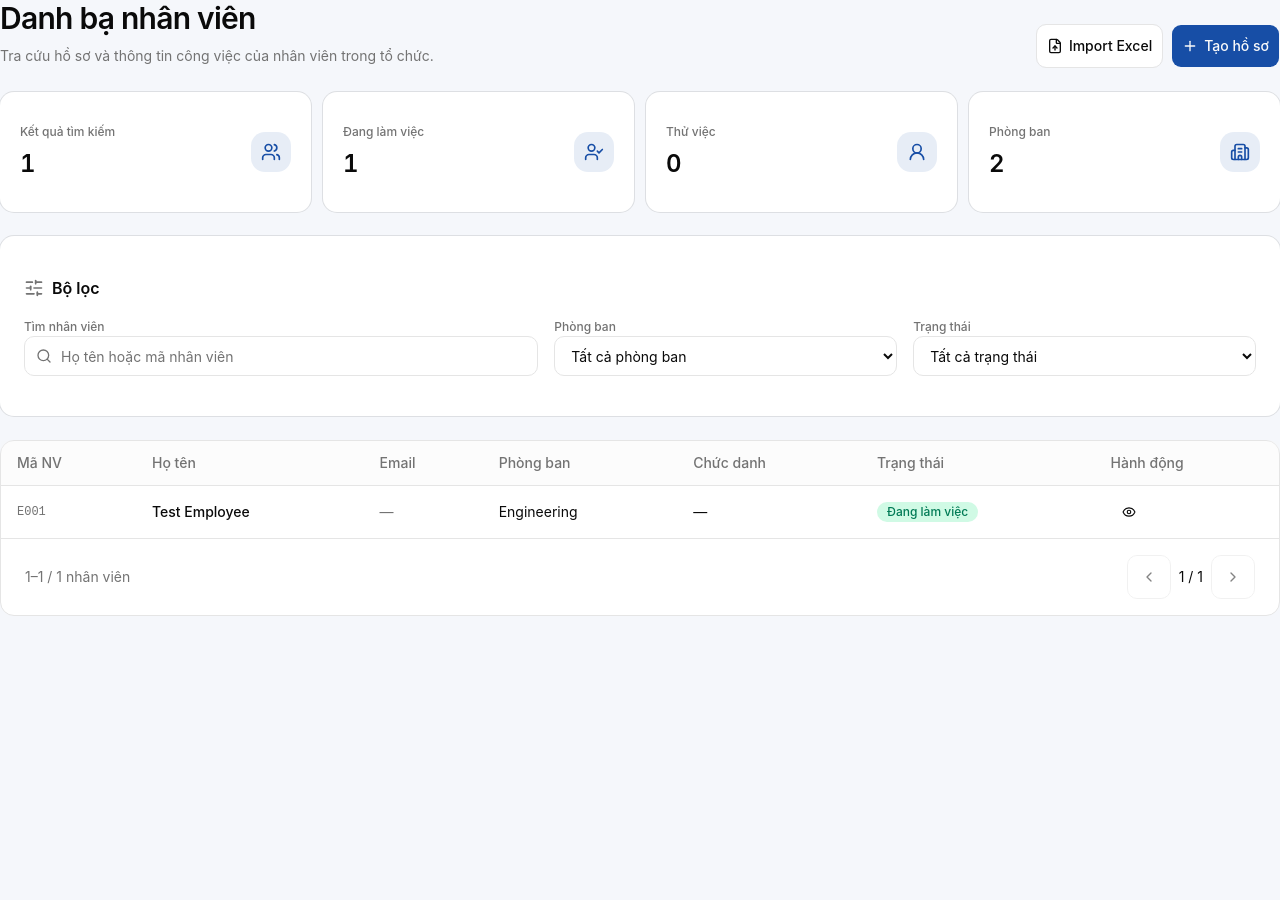
it: create employee keeps field validation inline and shows a warning toast
Step 1. Click the button "Tạo hồ sơ" → point(1226, 46), box [1171,24,1279,68]
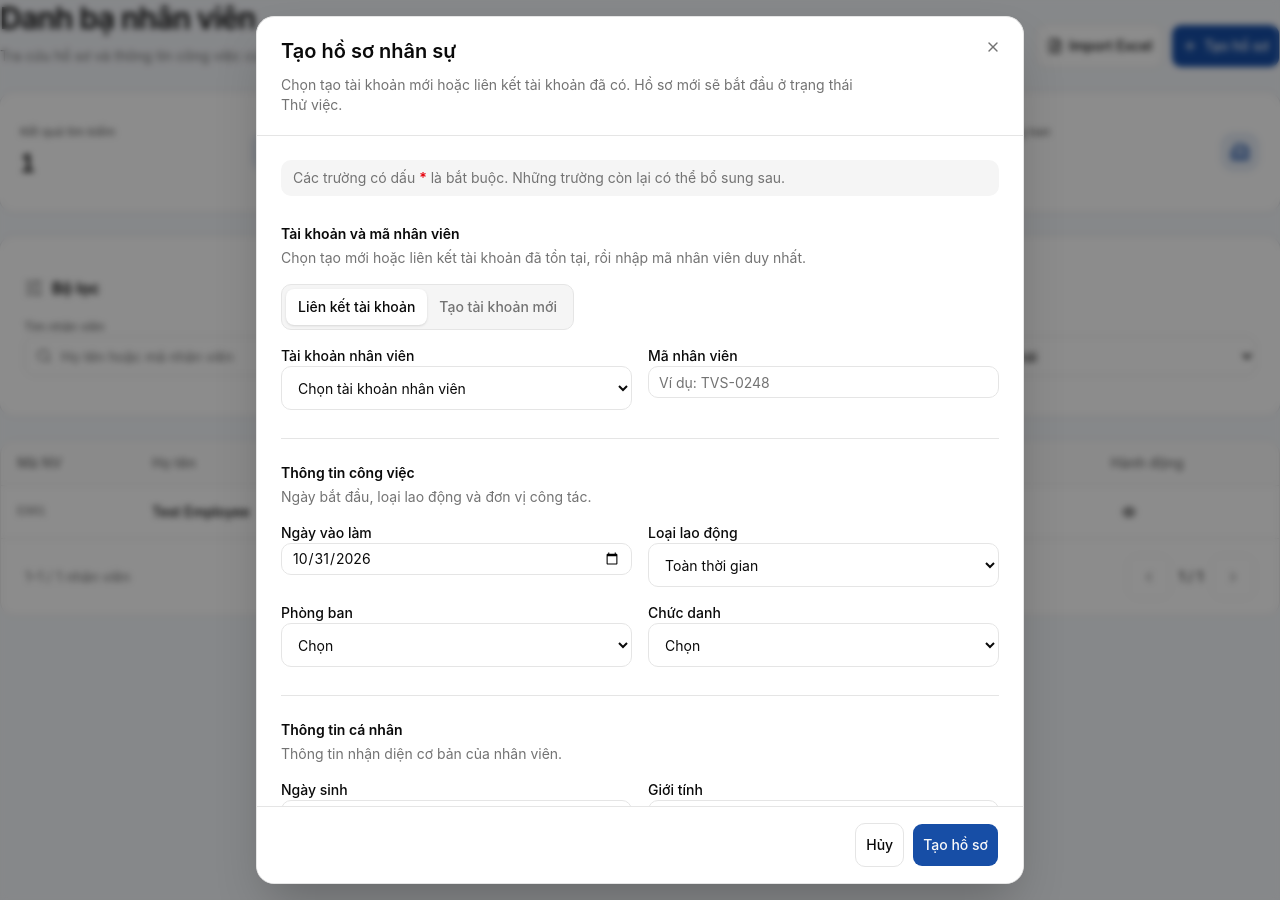
Expected: the text "Vui lòng chọn tài khoản nhân viên." is not shown
Step 2. Click the submit button → point(956, 845), box [912,823,999,867]
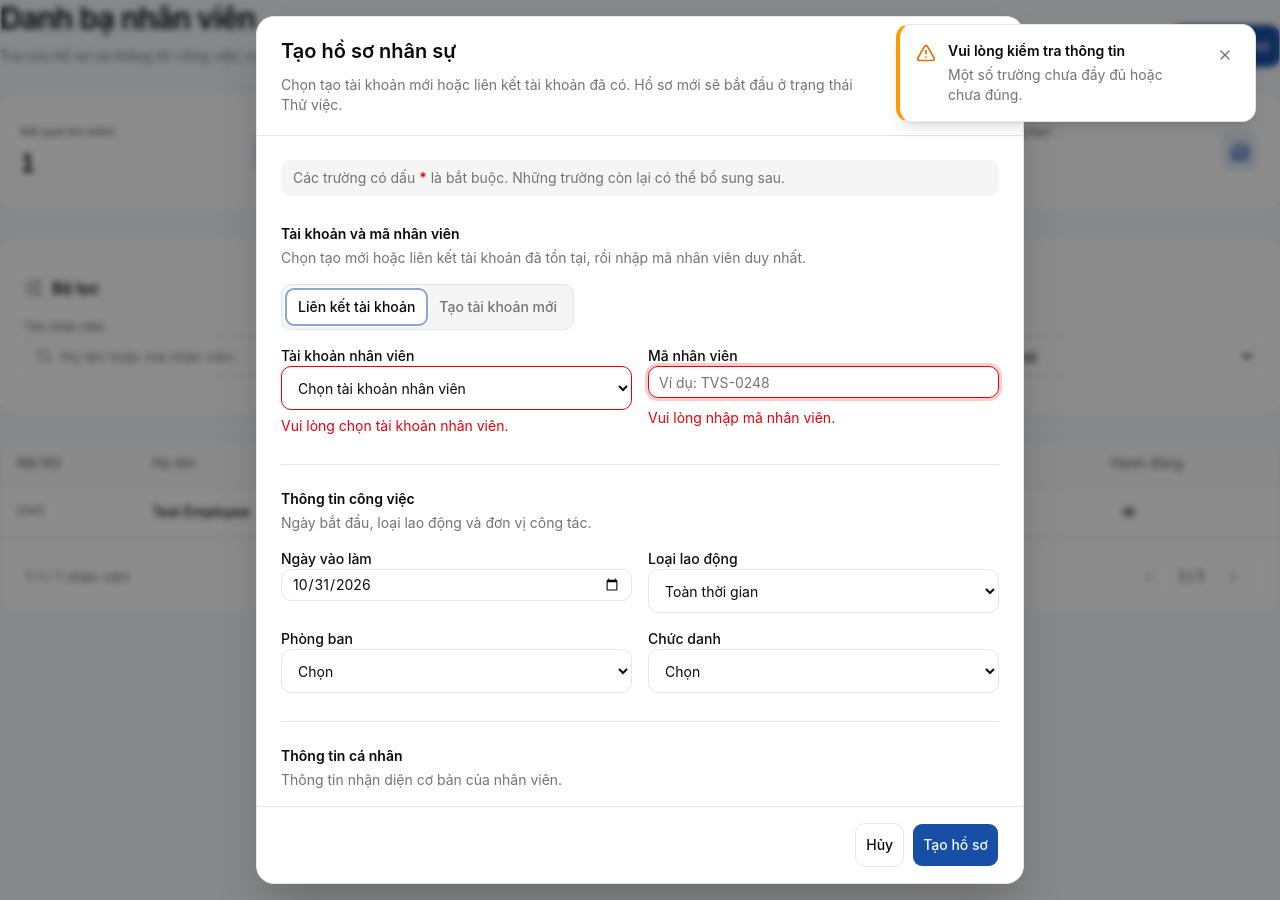
Expected: the text "Vui lòng chọn tài khoản nhân viên." is shown, [281,417,508,434]
